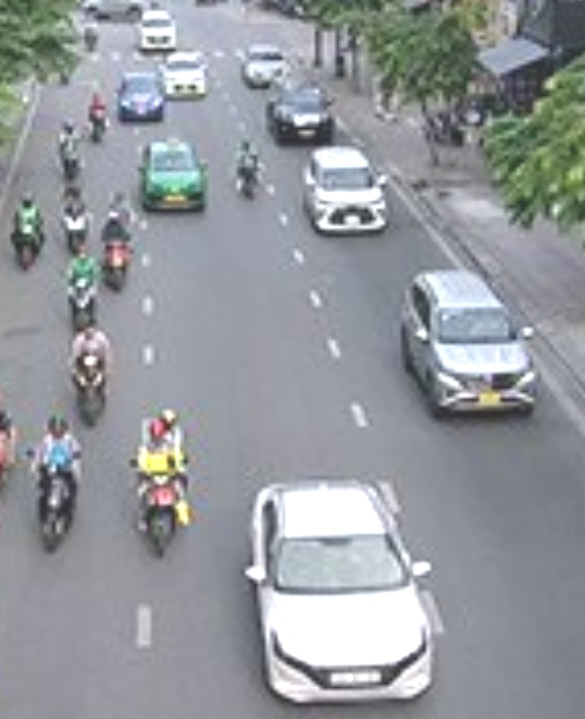car: (245, 474, 438, 696), (402, 268, 539, 423), (299, 147, 394, 235), (139, 138, 207, 215), (263, 77, 335, 146), (115, 70, 165, 124), (164, 52, 207, 99), (245, 42, 286, 91), (139, 11, 177, 52)
